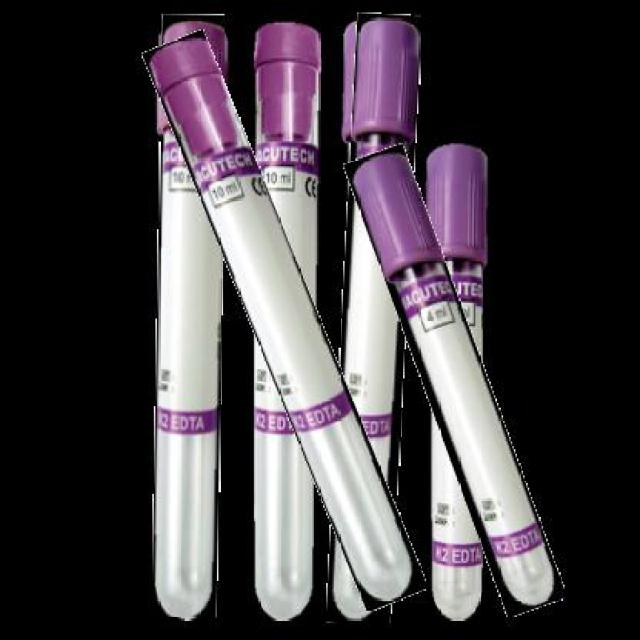Experimental-tube: (195, 22, 372, 616), (382, 140, 524, 620), (332, 11, 412, 624), (153, 12, 222, 617)
